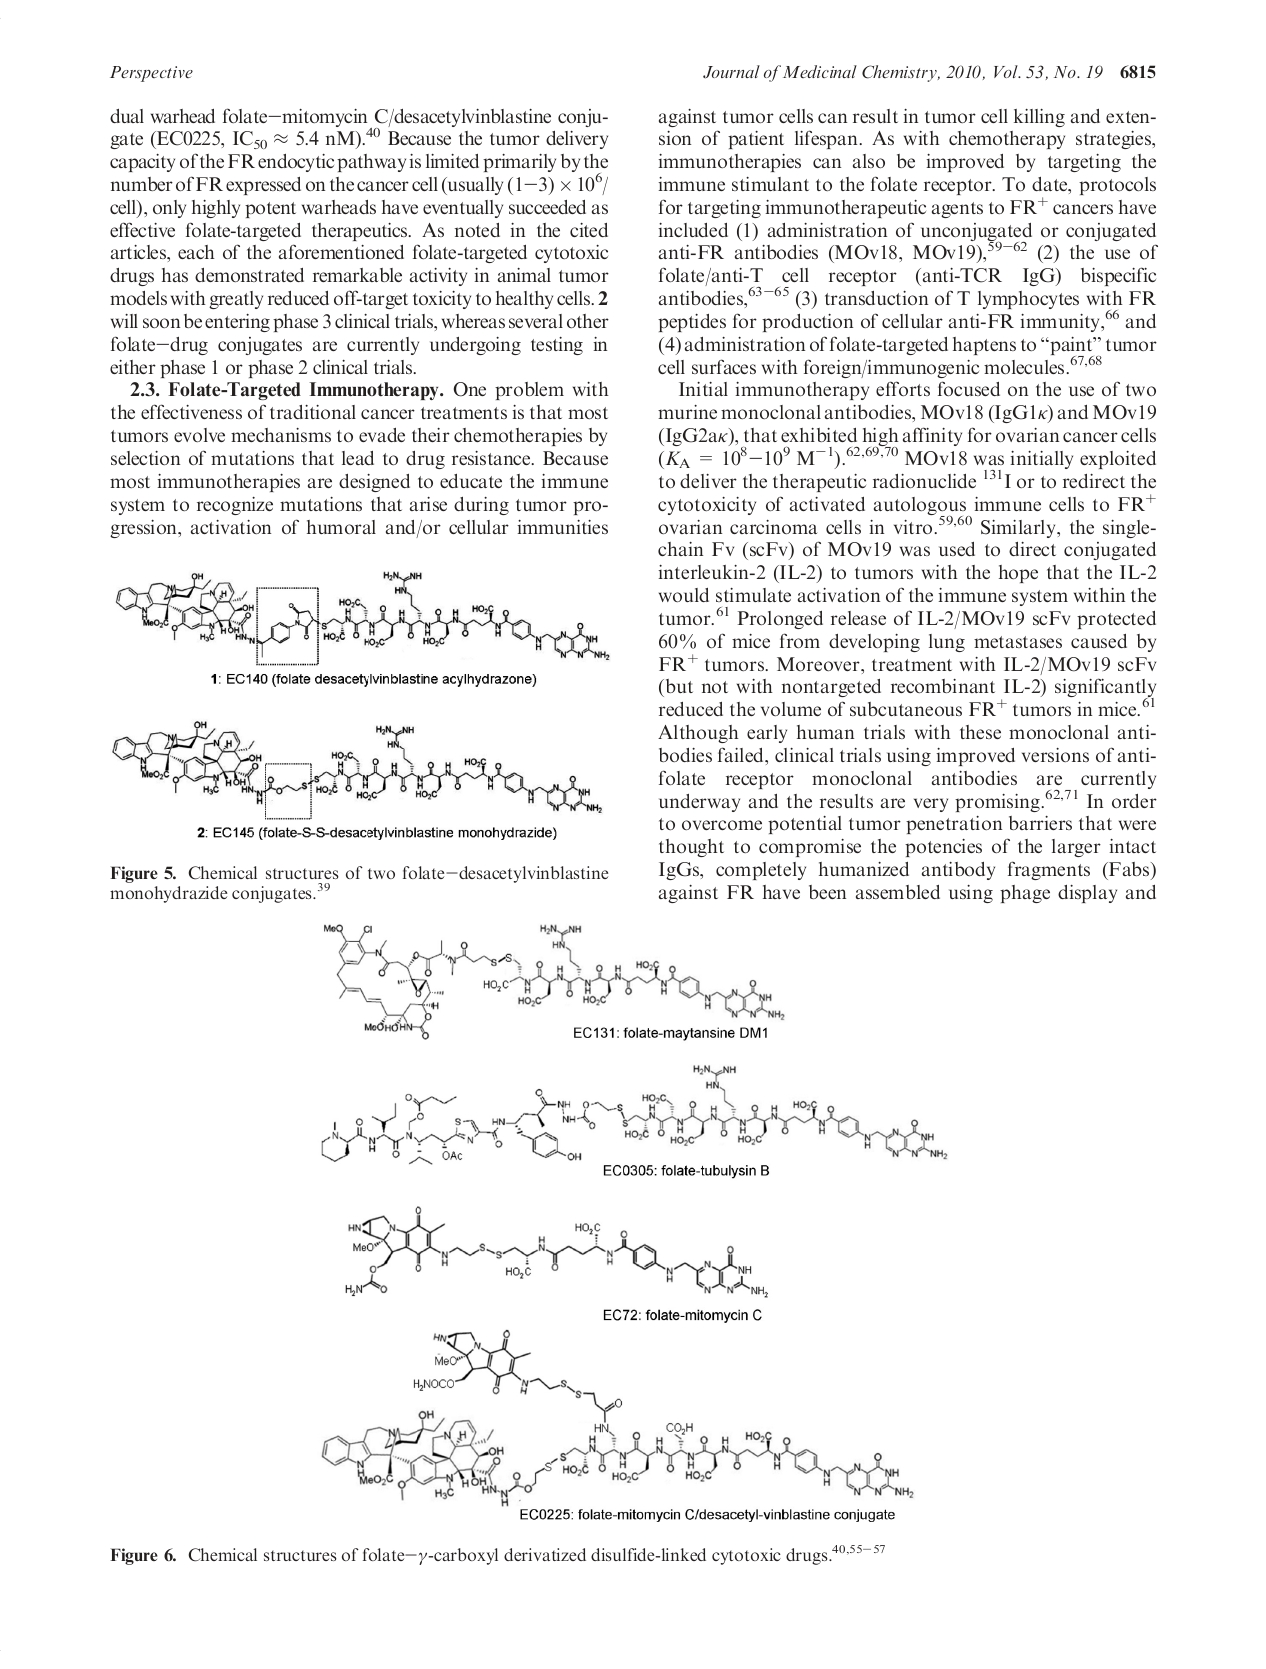exist_molecular: (319, 1326, 916, 1511), (320, 1063, 949, 1168), (320, 920, 787, 1041), (112, 567, 613, 664), (109, 719, 605, 815), (342, 1204, 773, 1302)
